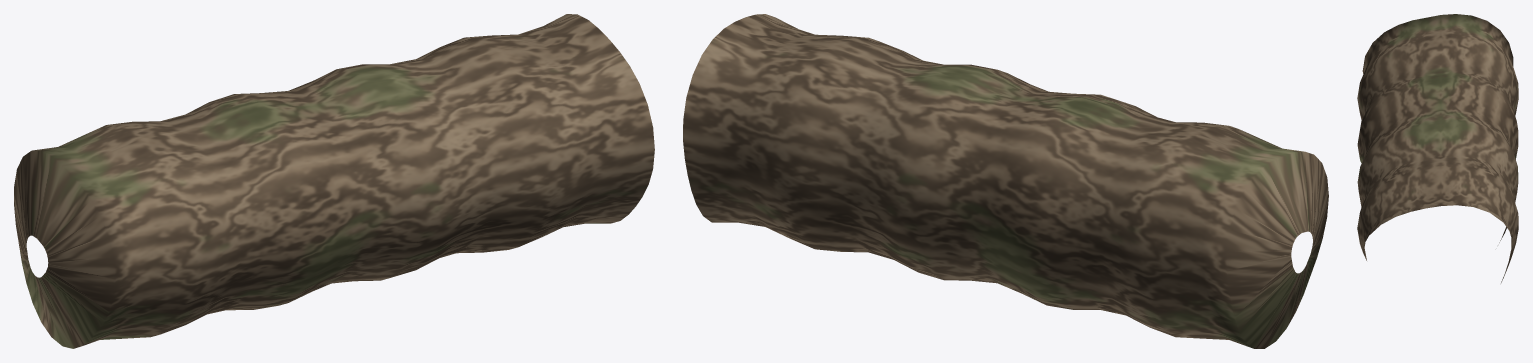
File: turtle-mt-driftwood.glb
3 views of the same model, side by side, from view 1: azimuth 30°, elevation 25°; view 2: azimuth 150°, elevation 25°; view 3: azimuth 270°, elevation 25° (orthographic). The views are drawn at different scales.
Visible parts, largest first — view 1: turtle-prop-driftwood; view 2: turtle-prop-driftwood; view 3: turtle-prop-driftwood.
Boxes of the visible parts, x1,y1,x2,y2 form: turtle-prop-driftwood: (14,14,654,348); turtle-prop-driftwood: (683,14,1328,348); turtle-prop-driftwood: (1357,14,1518,282).
Size of the model in its own units: 0.14 by 0.0465 by 0.0467.
1 material, 1 textured.
